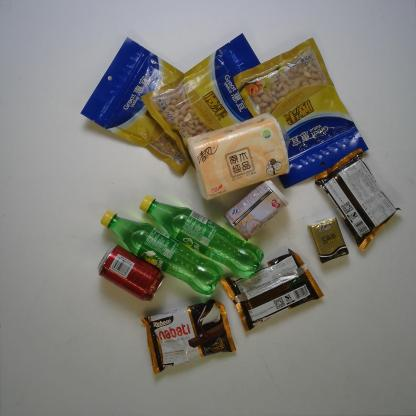Canned Food: (223, 178, 286, 240)
Dessert: (313, 147, 404, 257), (222, 248, 328, 333), (144, 298, 238, 377)
Dried Fruit: (225, 35, 372, 189), (75, 33, 202, 176), (138, 31, 264, 175)
Drink: (96, 208, 226, 296), (135, 193, 267, 278), (94, 245, 164, 304)
Tissue: (180, 112, 294, 203), (309, 214, 352, 265)
